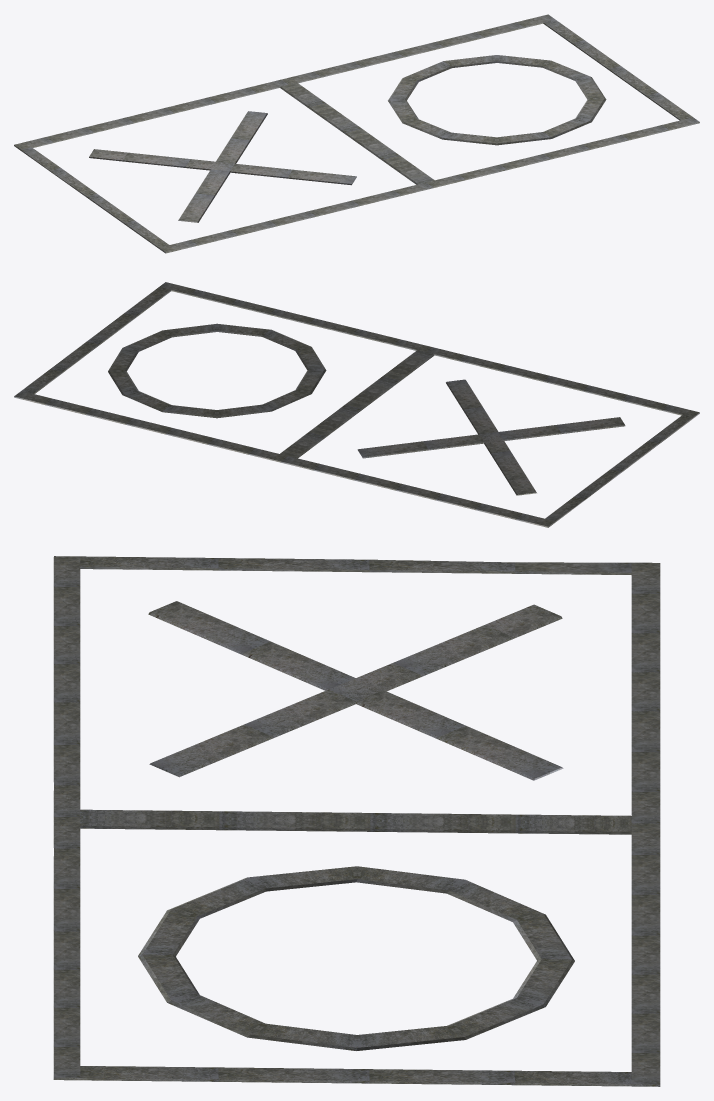
3 renders of one model, top to bottom at view 1: azimuth 30°, elevation 25°; view 2: azimuth 150°, elevation 25°; view 3: azimuth 270°, elevation 25°, orthographic. The views are drawn at different scales.
Parts seen in each view (by area): view 1: obj2; view 2: obj2; view 3: obj2.
Boxes of the visible parts, left/top/right/bottom form: obj2: left=14, top=14, right=699, bottom=253; obj2: left=14, top=282, right=699, bottom=527; obj2: left=53, top=556, right=660, bottom=1086.
Size of the model in its own units: 80.78 by 0.6682 by 39.71.
